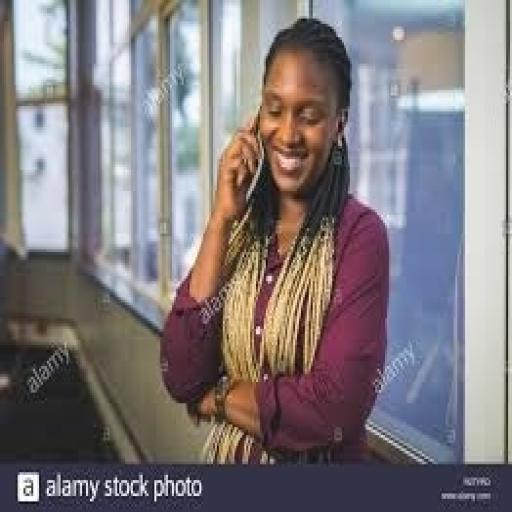calling: (156, 13, 393, 467)
